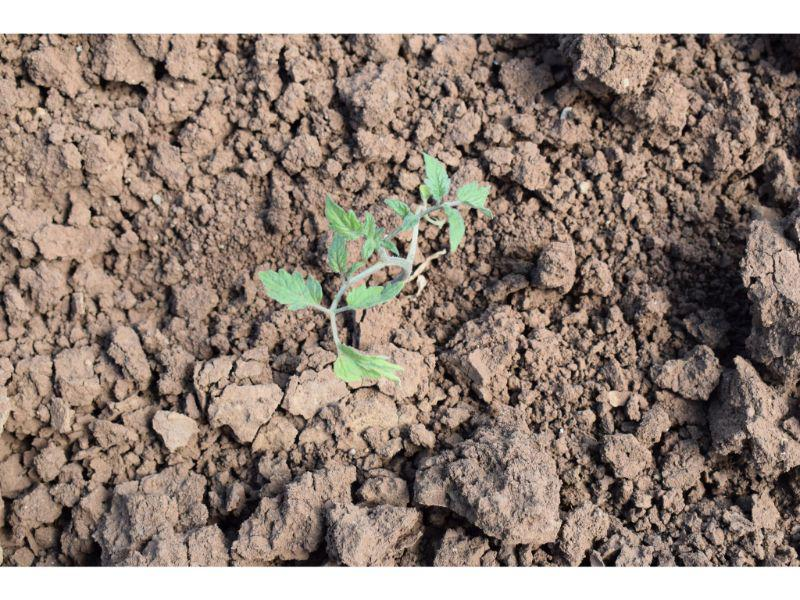tomato: (260, 150, 493, 383)
